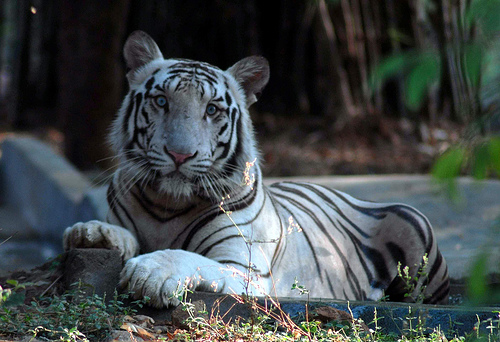Tigre: (71, 18, 443, 310)
